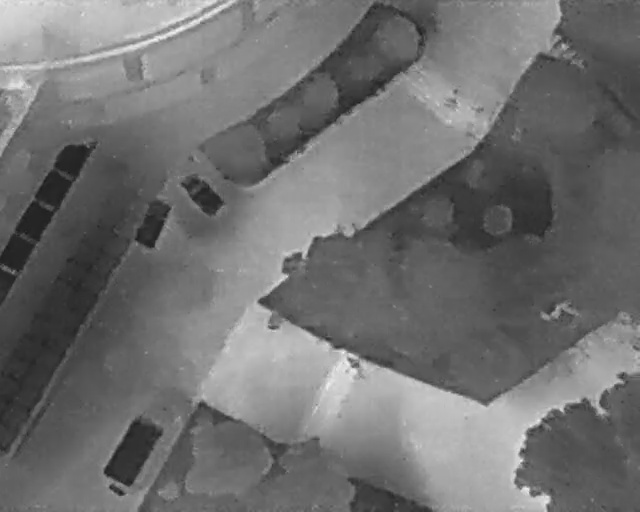OtherVehicle: (91, 408, 169, 503), (174, 166, 230, 223), (127, 192, 176, 254)
